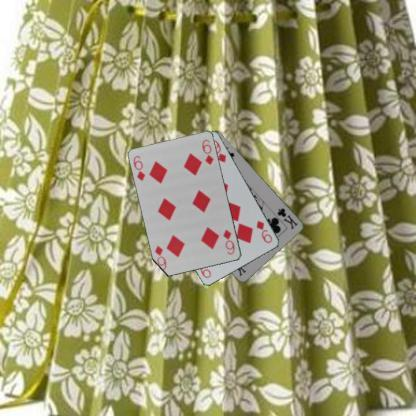6d: (220, 227, 236, 256), (131, 153, 147, 182)
9d: (254, 218, 274, 245)
Kc: (275, 206, 299, 230)
